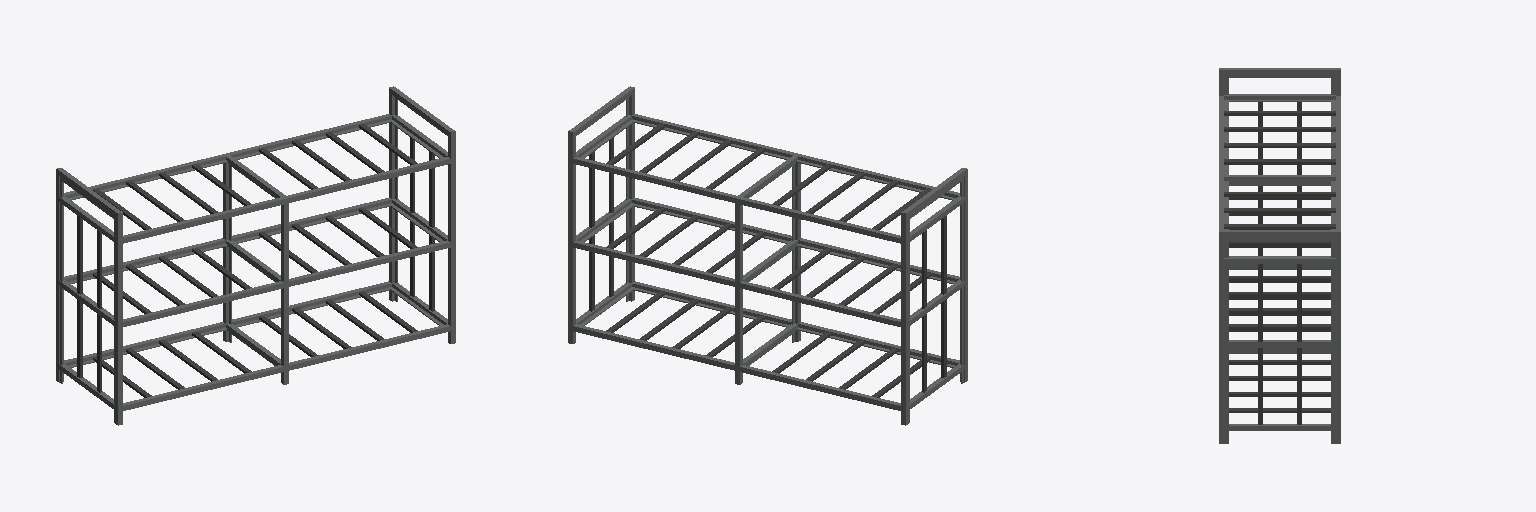
The model's file is rack.obj.
3 views of the same model, side by side, from view 1: azimuth 30°, elevation 25°; view 2: azimuth 150°, elevation 25°; view 3: azimuth 270°, elevation 25° (orthographic).
Visible parts, largest first — view 1: rack; view 2: rack; view 3: rack.
Part boxes in pixels (x1,y1,x2,y2): rack: (56, 86, 455, 425); rack: (568, 86, 967, 425); rack: (1219, 68, 1340, 443).
Bounding box in the file's own units: 270 × 162 × 85.